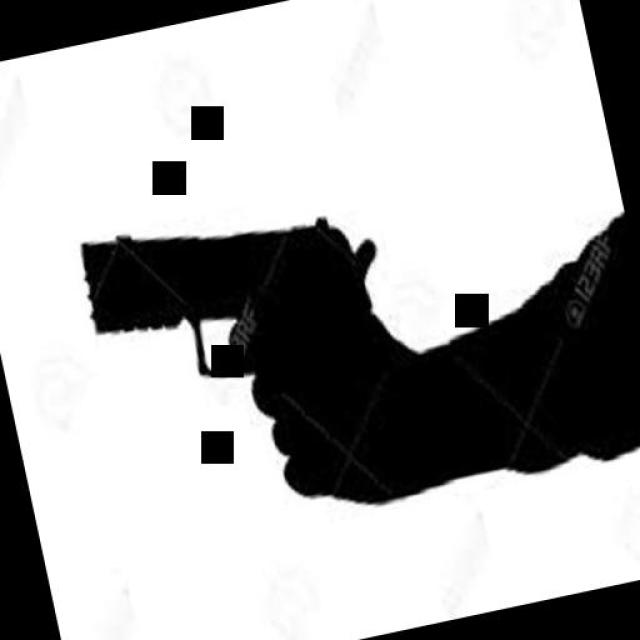gun: (69, 174, 426, 538)
